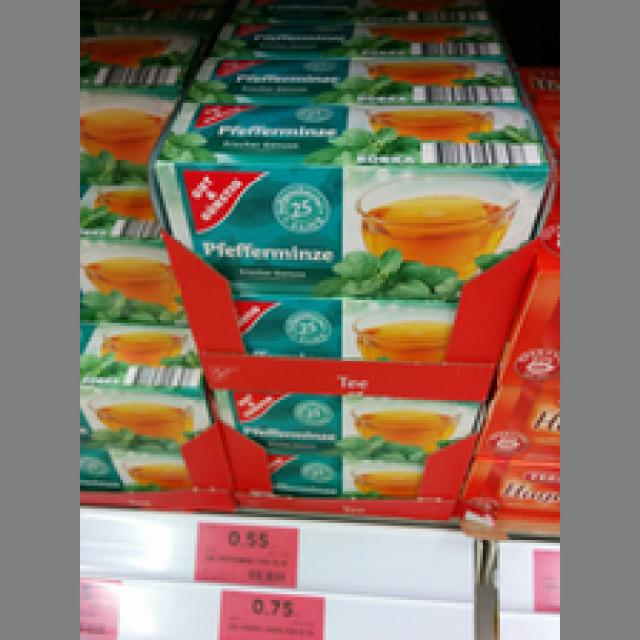groceries: (148, 97, 546, 294), (212, 386, 474, 506), (217, 283, 454, 357)
